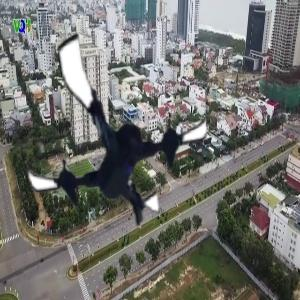drone: (10, 27, 218, 235)
